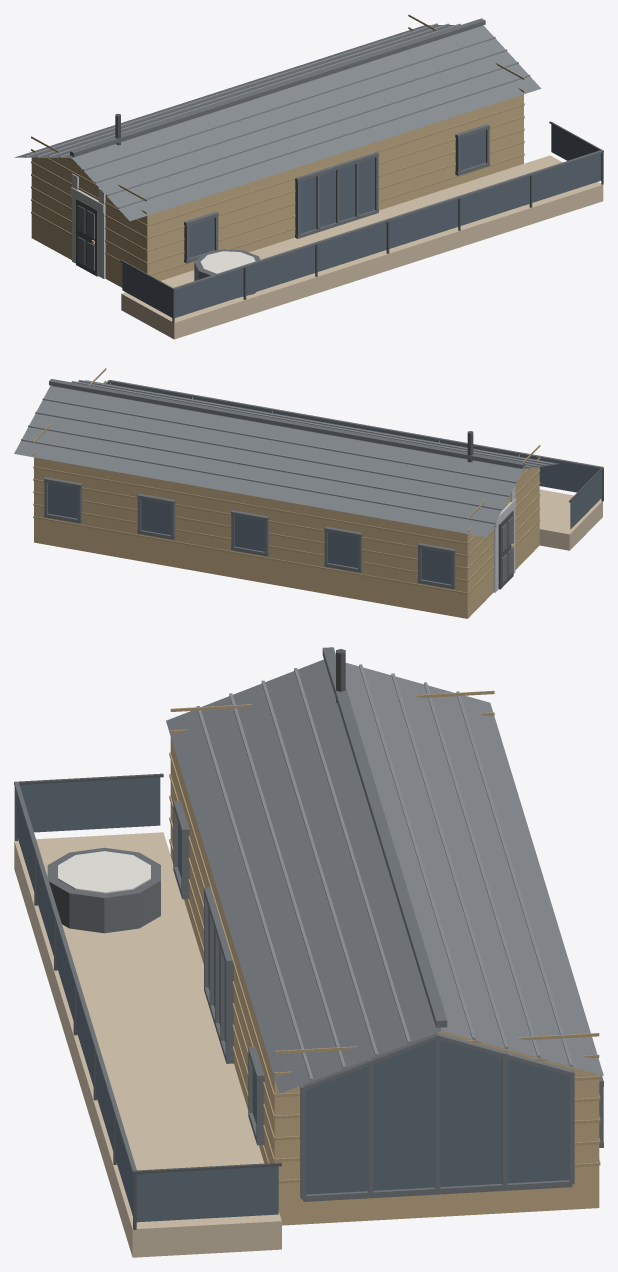
3 renders of one model, top to bottom at view 1: azimuth 30°, elevation 25°; view 2: azimuth 150°, elevation 25°; view 3: azimuth 270°, elevation 25°, orthographic. The views are drawn at different scales.
Visible parts, largest first — view 1: slate, door_wood, larch, slate_dk, slate_lt, door_wood_p, window_glass_005, window_glass_002, window_glass_003, window_glass_004, window_glass_006, window_glass_001 (+14 smaller); view 2: slate, door_wood, slate_dk, slate_lt, door_wood_p, larch, window_glass_001, window_glass_018, window_glass_020, window_glass_016, window_glass_019, window_glass_017 (+5 smaller); view 3: slate, larch, window_glass_015, slate_dk, door_wood, slate_lt, window_glass_008, window_glass_007, door_wood_p, band_dark, string, pipe (+2 smaller).
Part boxes in pixels (<box>): slate: <box>14,25,541,221</box>; door_wood: <box>31,94,523,287</box>; larch: <box>121,155,603,339</box>; slate_dk: <box>70,18,603,290</box>; slate_lt: <box>25,23,530,208</box>; door_wood_p: <box>31,14,524,275</box>; window_glass_005: <box>460,176,529,225</box>; window_glass_002: <box>246,245,315,294</box>; window_glass_003: <box>317,222,386,271</box>; window_glass_004: <box>389,199,458,248</box>; window_glass_006: <box>532,153,601,202</box>; window_glass_001: <box>174,268,243,317</box>; slate: <box>14,380,559,537</box>; door_wood: <box>34,457,539,618</box>; slate_dk: <box>44,379,602,589</box>; slate_lt: <box>21,380,552,524</box>; door_wood_p: <box>33,368,540,594</box>; larch: <box>539,489,602,550</box>; window_glass_001: <box>521,455,599,492</box>; window_glass_018: <box>234,516,264,551</box>; window_glass_020: <box>421,548,451,584</box>; window_glass_016: <box>48,483,77,518</box>; window_glass_019: <box>328,532,357,567</box>; window_glass_017: <box>141,499,170,535</box>; slate: <box>166,659,603,1093</box>; larch: <box>14,832,281,1257</box>; window_glass_015: <box>306,1040,569,1194</box>; slate_dk: <box>14,647,603,1201</box>; door_wood: <box>170,737,599,1225</box>; slate_lt: <box>196,664,572,1081</box>; window_glass_008: <box>136,1166,278,1222</box>; window_glass_007: <box>19,777,160,832</box>; door_wood_p: <box>169,690,600,1183</box>; band_dark: <box>47,847,160,933</box>; string: <box>58,851,150,893</box>; pipe: <box>14,649,345,1229</box>.
Bounding box in the file's own units: 15.39 × 4.4 × 9.41.
